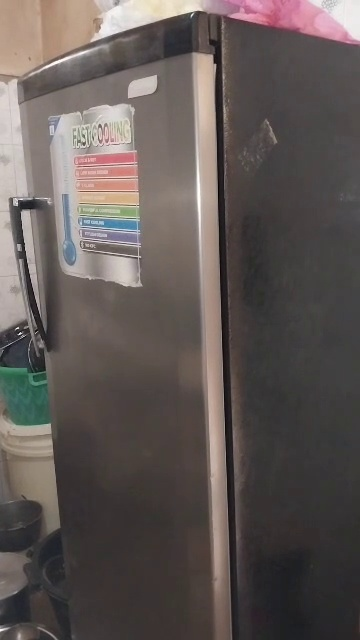refrigerator: (14, 24, 360, 626)
